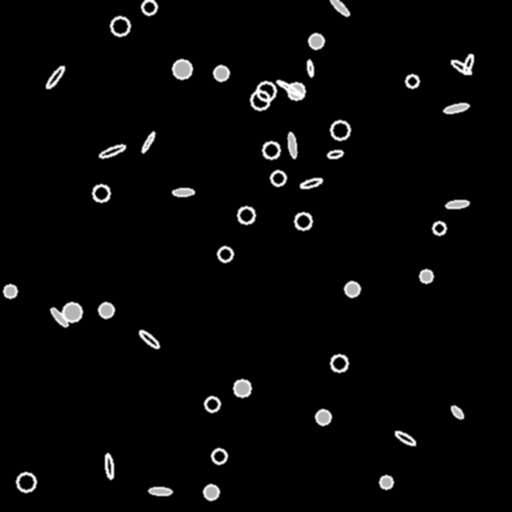pseudomonas: (275, 78, 303, 98), (44, 65, 66, 89), (138, 329, 160, 349), (99, 143, 125, 159), (450, 58, 472, 76), (328, 0, 350, 17), (50, 307, 68, 327), (394, 430, 416, 446), (140, 131, 156, 153), (443, 102, 469, 114), (299, 177, 323, 189), (462, 53, 474, 75), (449, 404, 465, 420), (287, 133, 297, 157), (104, 454, 114, 478), (446, 199, 468, 209), (148, 487, 172, 495), (172, 188, 194, 196), (306, 59, 314, 77), (327, 150, 343, 158)
synechocystis: (63, 303, 81, 321), (17, 473, 35, 491), (331, 121, 349, 139), (251, 91, 269, 109), (173, 60, 191, 78), (257, 82, 275, 100), (111, 17, 129, 35), (238, 207, 254, 223), (331, 355, 347, 371), (93, 185, 109, 201), (288, 83, 304, 99), (263, 142, 279, 158), (234, 380, 250, 396), (295, 213, 311, 229), (204, 485, 218, 499), (99, 303, 113, 317), (142, 0, 156, 14), (345, 282, 359, 296), (271, 171, 285, 185), (316, 410, 330, 424), (214, 66, 228, 80), (205, 397, 219, 411), (218, 247, 232, 261), (212, 449, 226, 463), (309, 34, 323, 48), (380, 476, 392, 488), (433, 222, 445, 234), (420, 270, 432, 282), (4, 285, 16, 297), (406, 75, 418, 87)
